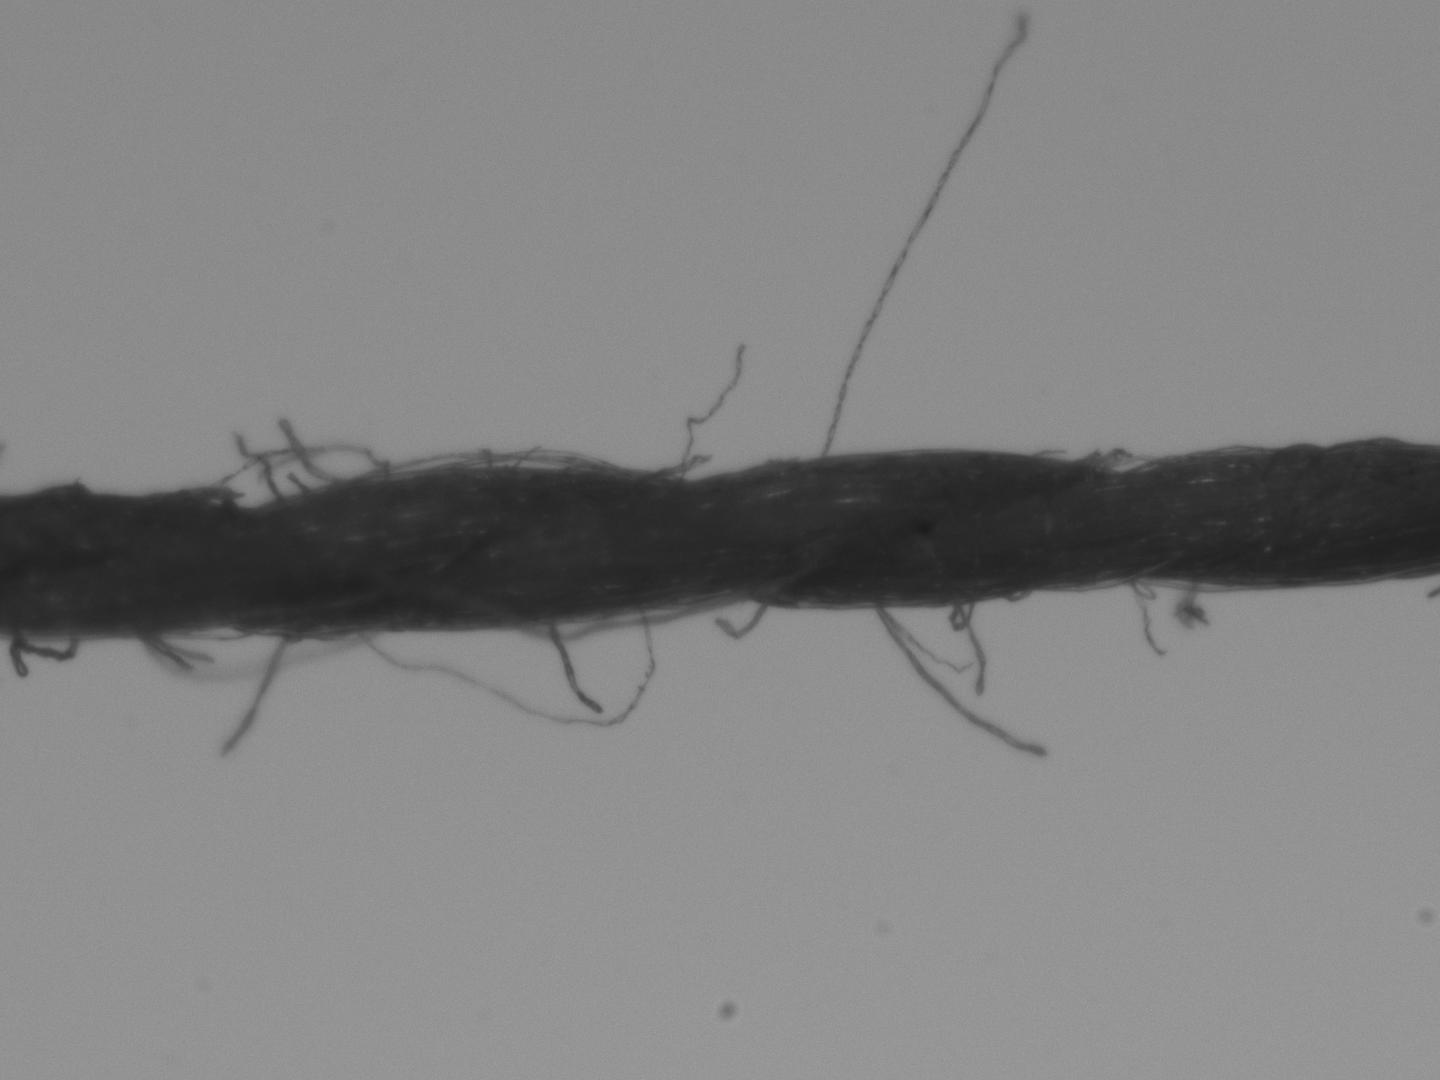loop_fiber: (874, 606, 1040, 761), (218, 445, 382, 505), (520, 598, 711, 635), (450, 448, 610, 476), (12, 626, 81, 658), (1084, 448, 1147, 475), (175, 623, 244, 646)
protruding_fiber: (821, 16, 1024, 461), (679, 347, 745, 483), (227, 632, 287, 762), (543, 623, 599, 716)
